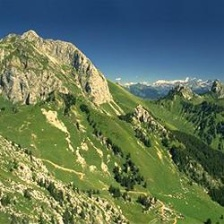neutral: (2, 4, 224, 222)
